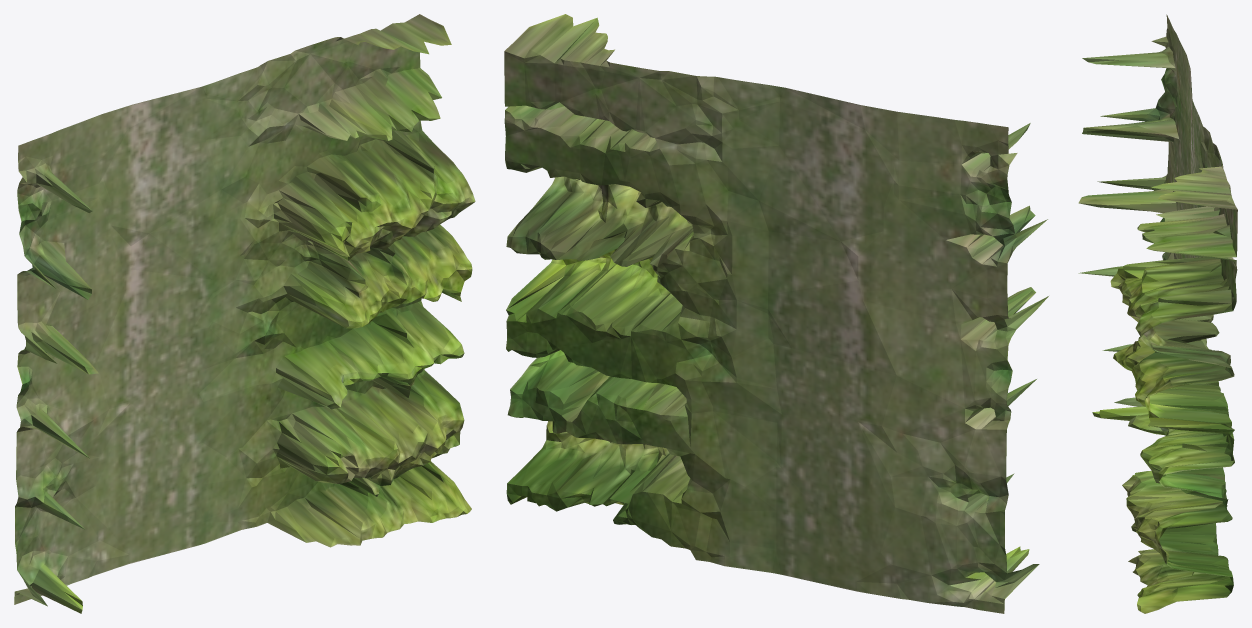
Rendered from map_50_10.obj.
3 renders of one model, left to right at view 1: azimuth 30°, elevation 25°; view 2: azimuth 150°, elevation 25°; view 3: azimuth 270°, elevation 25°, orthographic. The views are drawn at different scales.
Parts seen in each view (by area): view 1: grp1; view 2: grp1; view 3: grp1.
Boxes of the visible parts, x1=… form: grp1: x1=14, y1=14, x2=475, y2=613; grp1: x1=504, y1=14, x2=1048, y2=613; grp1: x1=1078, y1=14, x2=1237, y2=613.
Bounding box in the file's own units: 10 × 10 × 3.54.
1 material, 1 textured.
